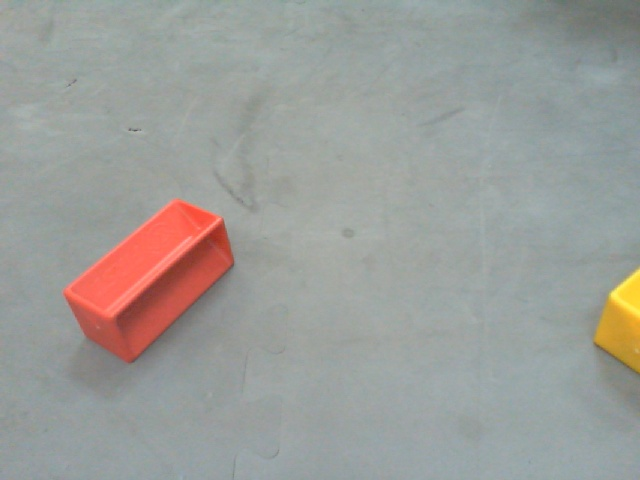RedSample: (61, 201, 235, 362)
YellowSample: (594, 265, 640, 384)
